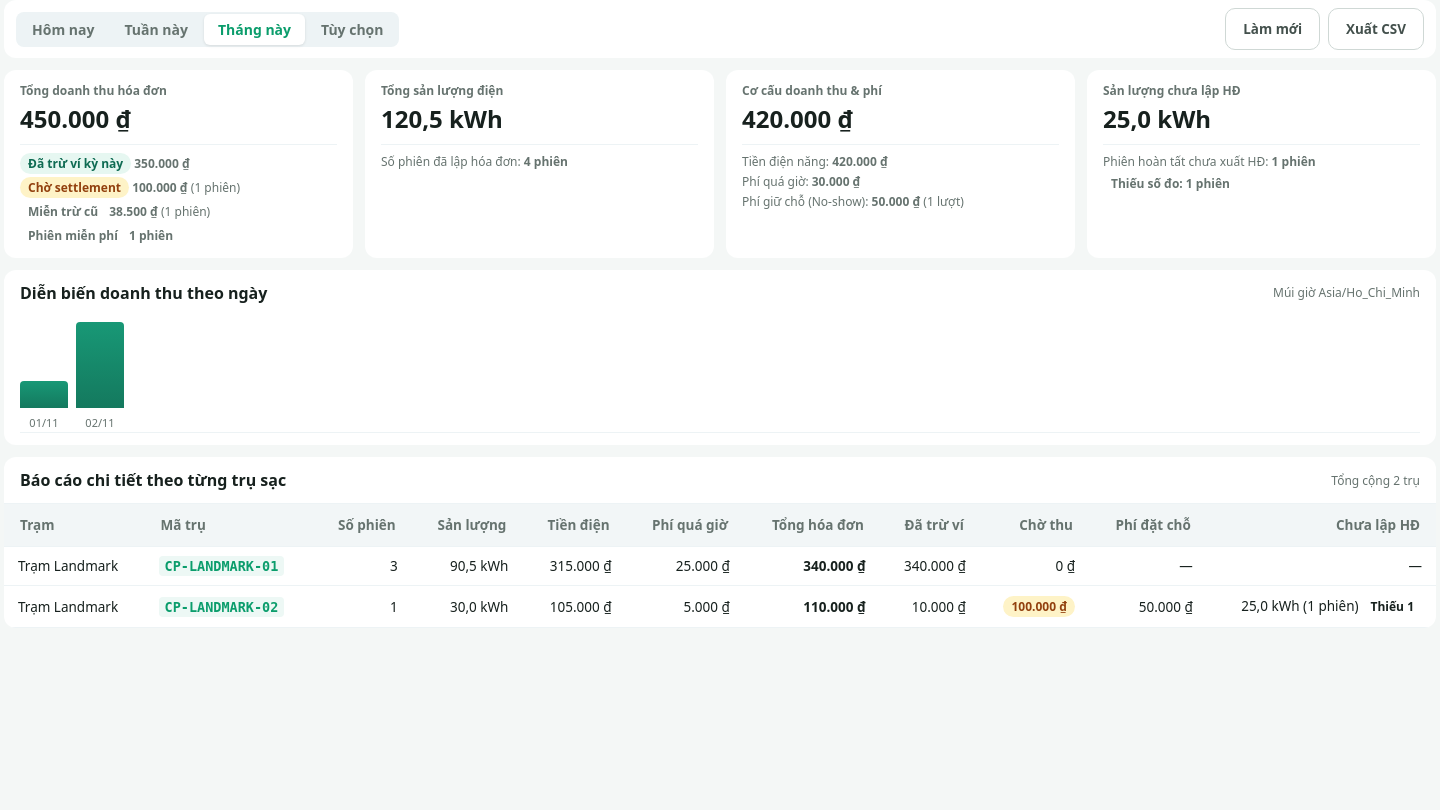
Scenario: allows switching period to day, week and custom
Expected: the text "Tổng doanh thu hóa đơn" is shown, [20, 82, 167, 99]
# Switch to 'Hôm nay'
Click the button "Hôm nay" at (63, 29), box [18, 14, 108, 44]
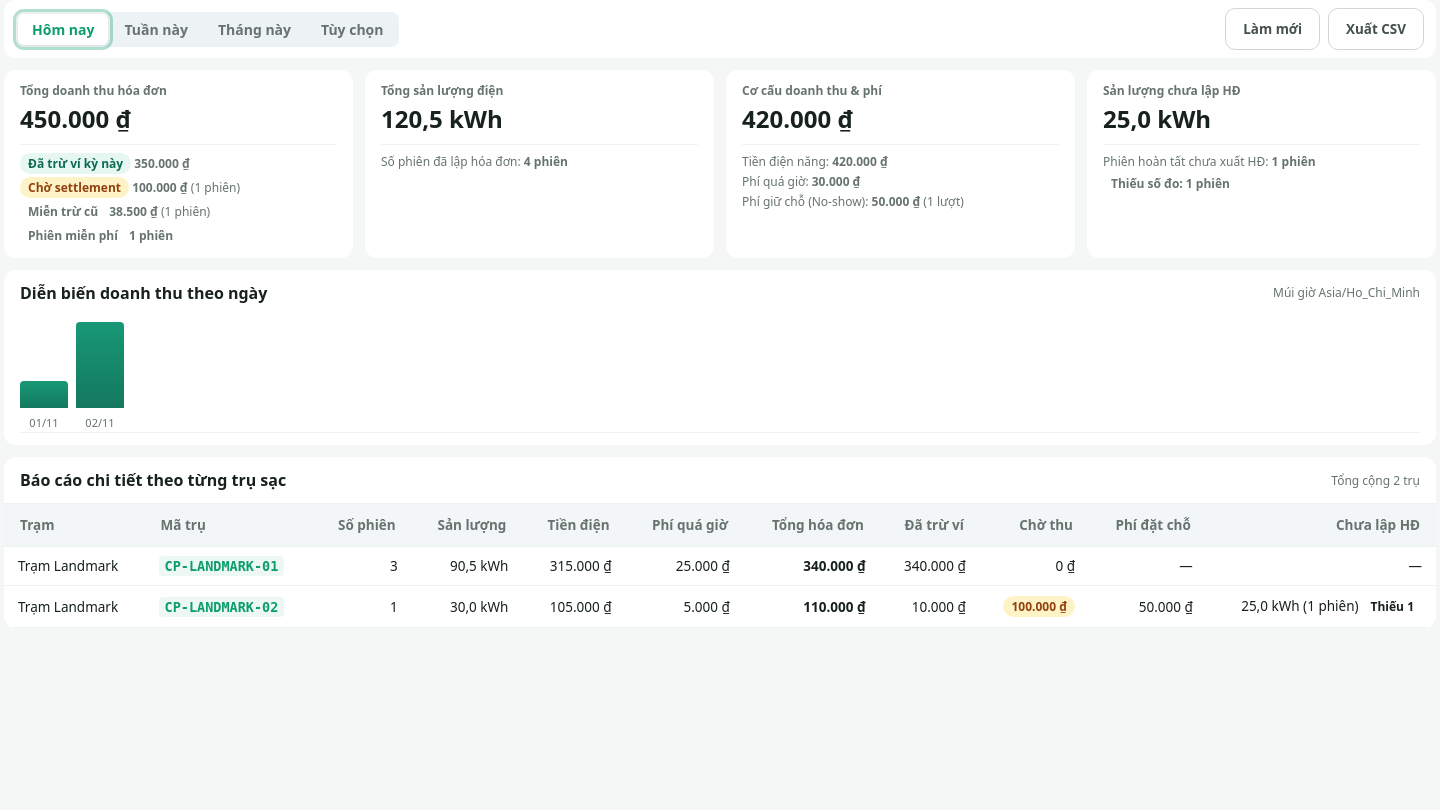
# Switch to 'Tuần này'
Click the button "Tuần này" at (156, 29), box [110, 14, 202, 44]
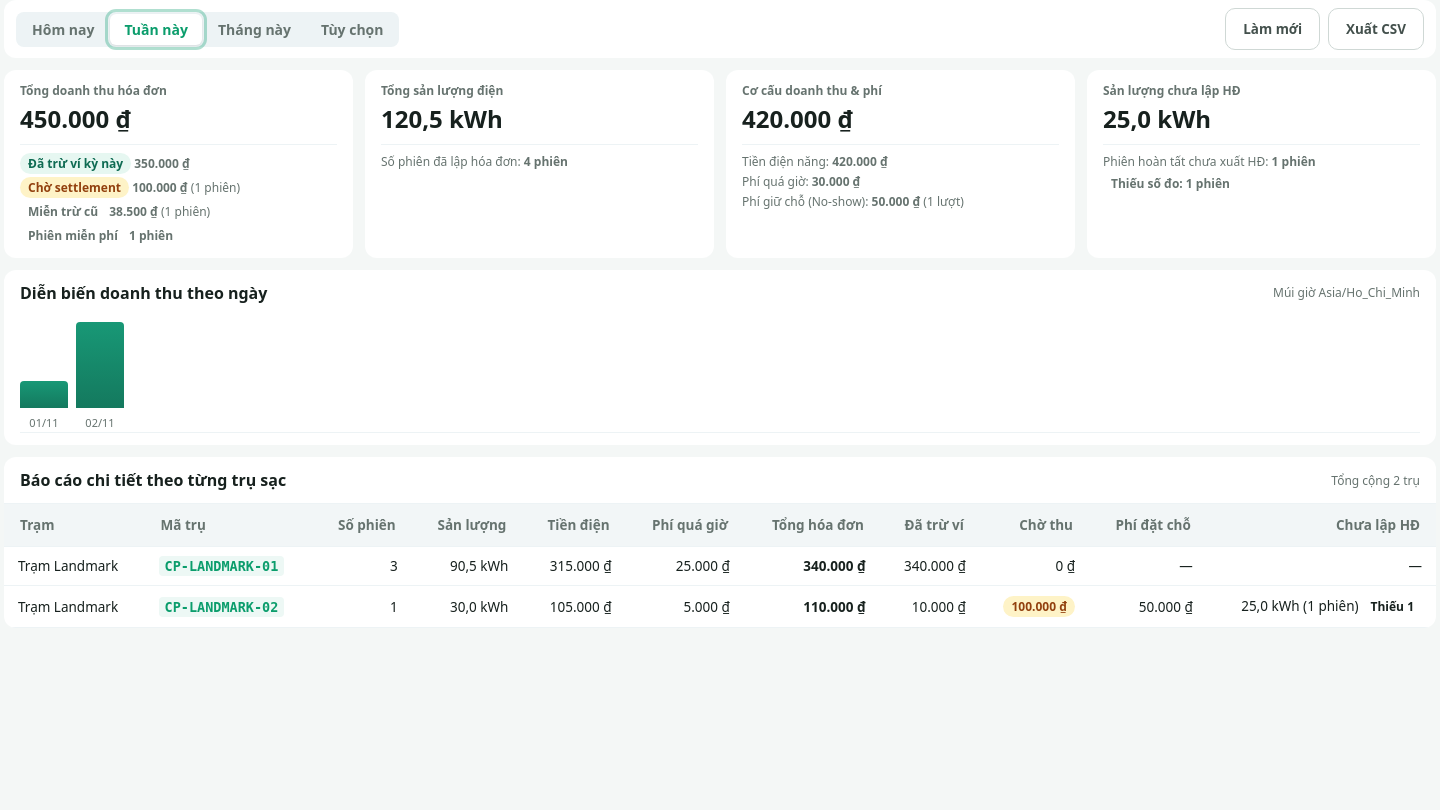
# Switch to 'Tùy chọn' shows date pickers
Click the button "Tùy chọn" at (352, 29), box [307, 14, 398, 44]
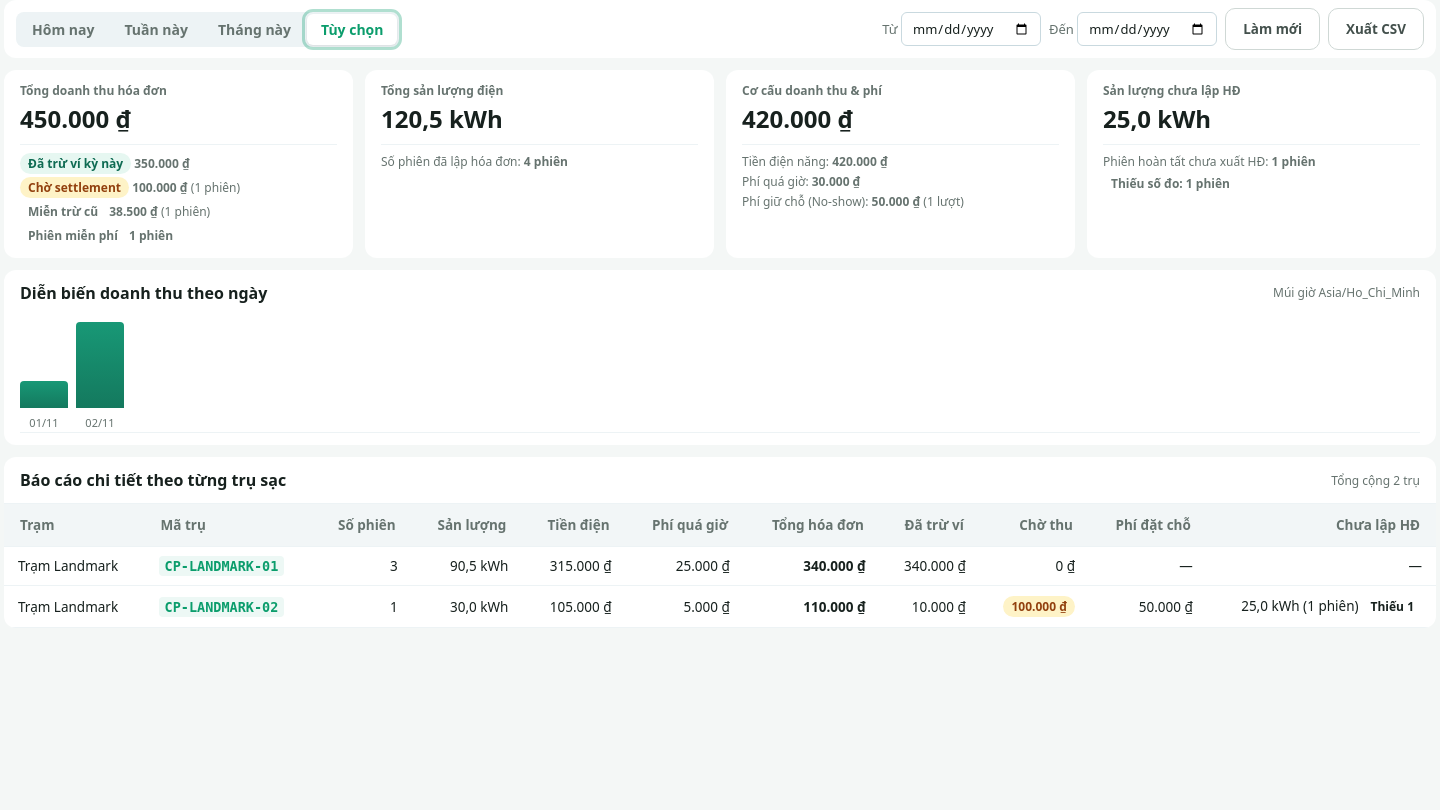
Expected: the date field named "Từ ngày" is shown, [901, 12, 1041, 46]
Expected: the date field named "Đến ngày" is shown, [1077, 12, 1217, 46]
